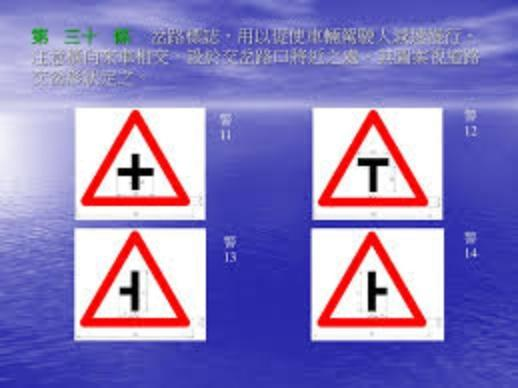fork_road: (310, 222, 433, 330), (70, 224, 196, 329), (70, 104, 193, 208), (315, 104, 430, 215)
